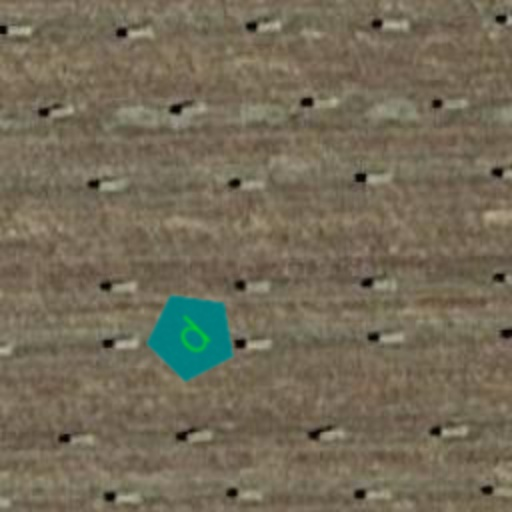pentagon: (126, 270, 258, 402)
